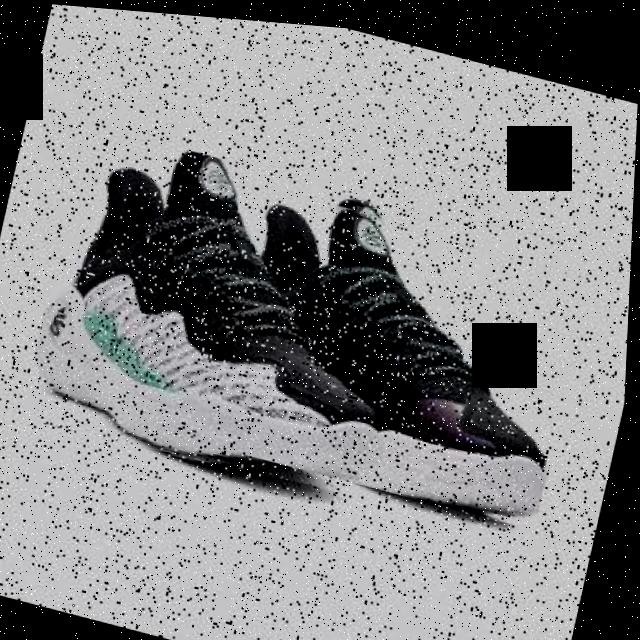shoe: (21, 119, 428, 503), (188, 172, 596, 523)
